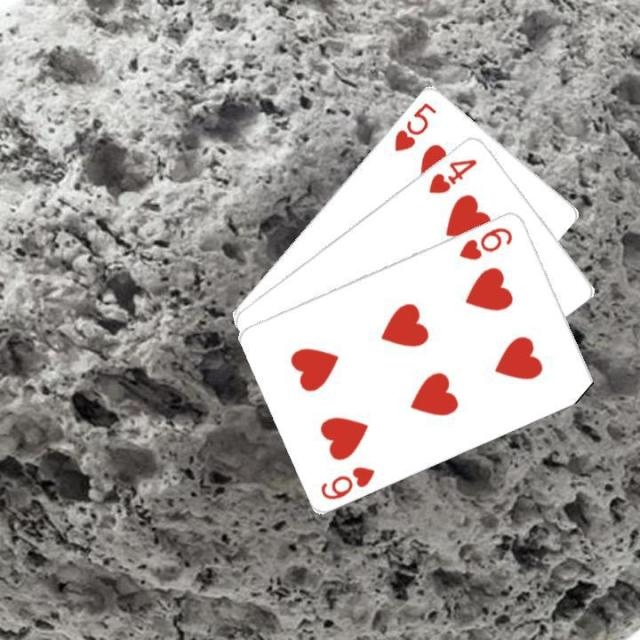4H: (425, 154, 479, 196)
5H: (390, 98, 439, 153)
6H: (316, 462, 377, 502), (455, 222, 515, 262)
